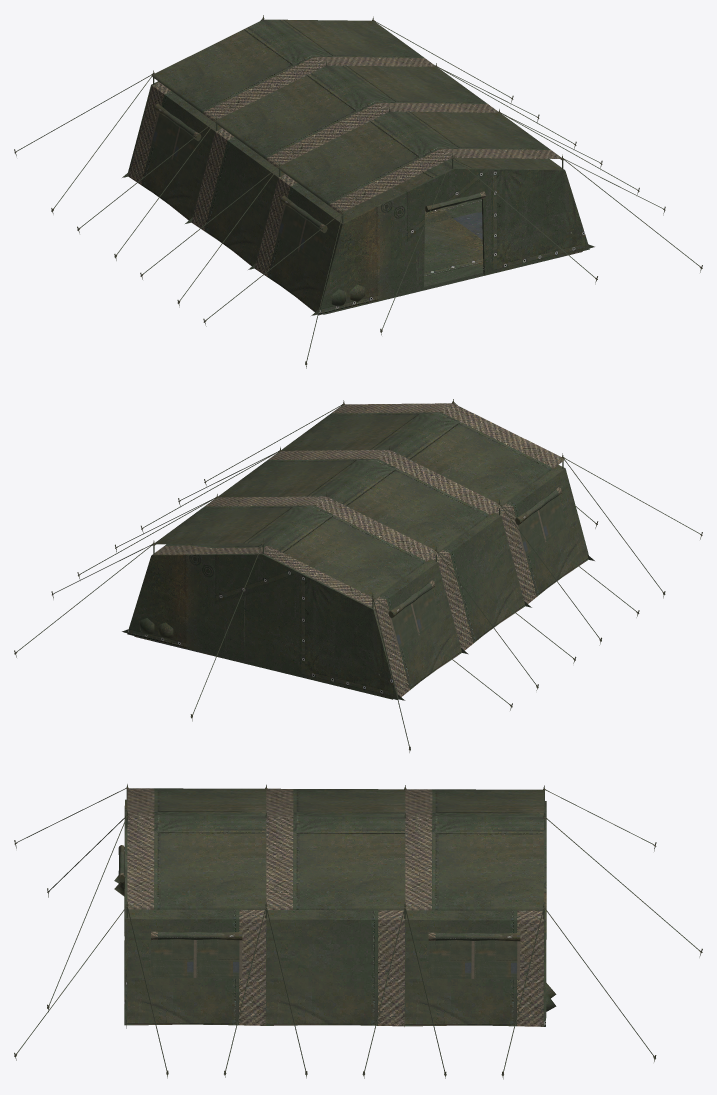
File: tent.FBX
3 views of the same model, one above another, from view 1: azimuth 30°, elevation 25°; view 2: azimuth 150°, elevation 25°; view 3: azimuth 270°, elevation 25° (orthographic). The views are drawn at different scales.
Parts seen in each view (by area): view 1: Object01, Object03, Object02; view 2: Object01, Object02; view 3: Object01, Object02.
Boxes of the visible parts, x1=… form: Object01: x1=14, y1=15, x2=702, y2=368; Object03: x1=323, y1=198, x2=582, y2=314; Object02: x1=150, y1=112, x2=327, y2=265; Object01: x1=14, y1=399, x2=702, y2=752; Object02: x1=389, y1=496, x2=566, y2=650; Object01: x1=14, y1=784, x2=702, y2=1079; Object02: x1=150, y1=939, x2=520, y2=979.
Bounding box in the file's own units: 107 × 29.75 × 126.
